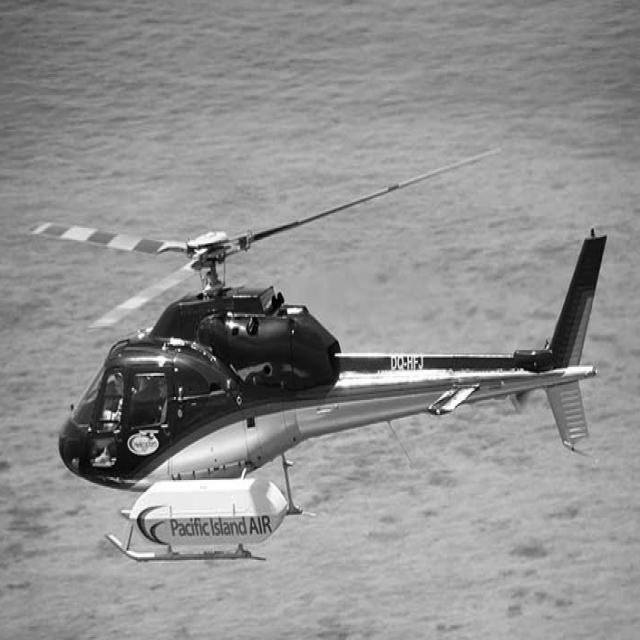helicopter: (48, 148, 615, 569)
